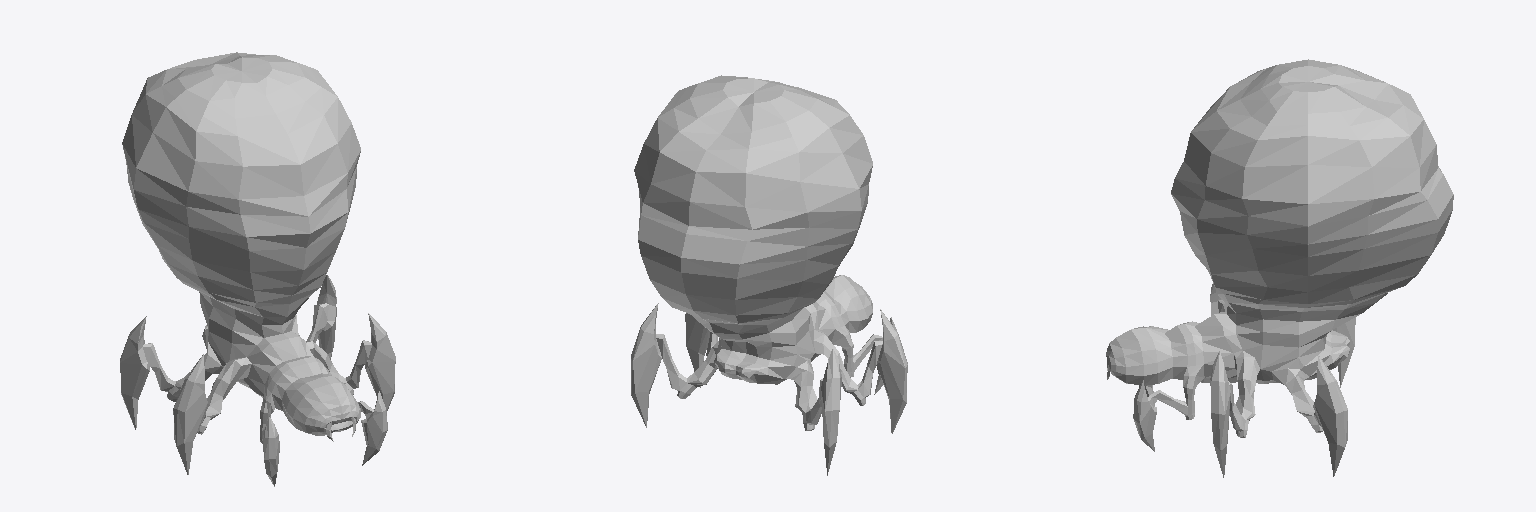
The model's file is Boomer.obj.
The picture shows the model from 3 angles: view 1: azimuth 30°, elevation 25°; view 2: azimuth 150°, elevation 25°; view 3: azimuth 270°, elevation 25°; orthographic projection.
Visible parts, largest first — view 1: Boomer; view 2: Boomer; view 3: Boomer.
Part boxes in pixels (bbox=[...]): Boomer: bbox=[120, 52, 395, 486]; Boomer: bbox=[631, 75, 907, 475]; Boomer: bbox=[1106, 59, 1453, 477].
Size of the model in its own units: 196 by 300 by 267.